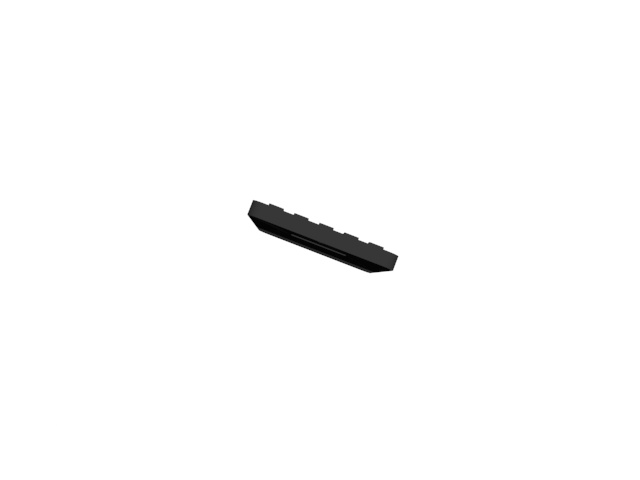calculator: (241, 193, 400, 280)
